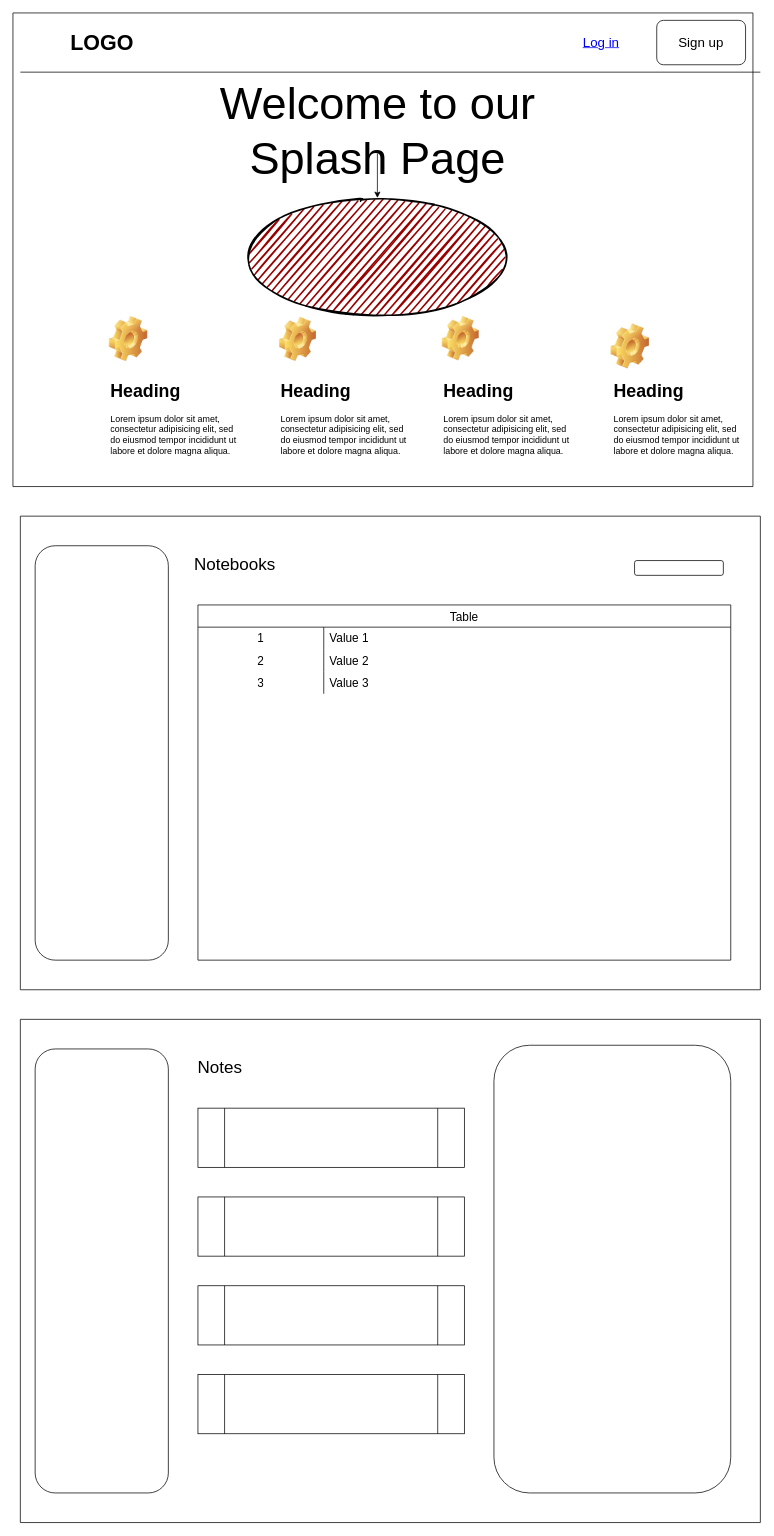
The diagram is 774 pixels wide and 1536 high, and some of its shapes have lost their labels. Each missing label, with the centre of its shape:
Filter: point 678,567
Title Section 1.1 Section 1.2 Section 1.3 Section 2.1 Section 2.2 Section 2.3: point 612,1269
